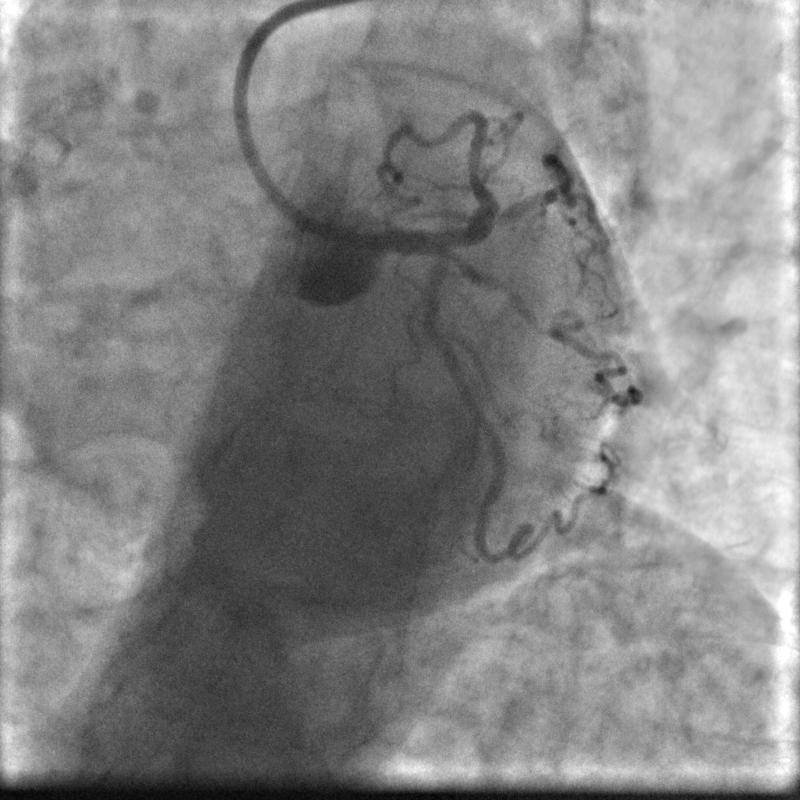Stenosis: (420, 313, 446, 345)
